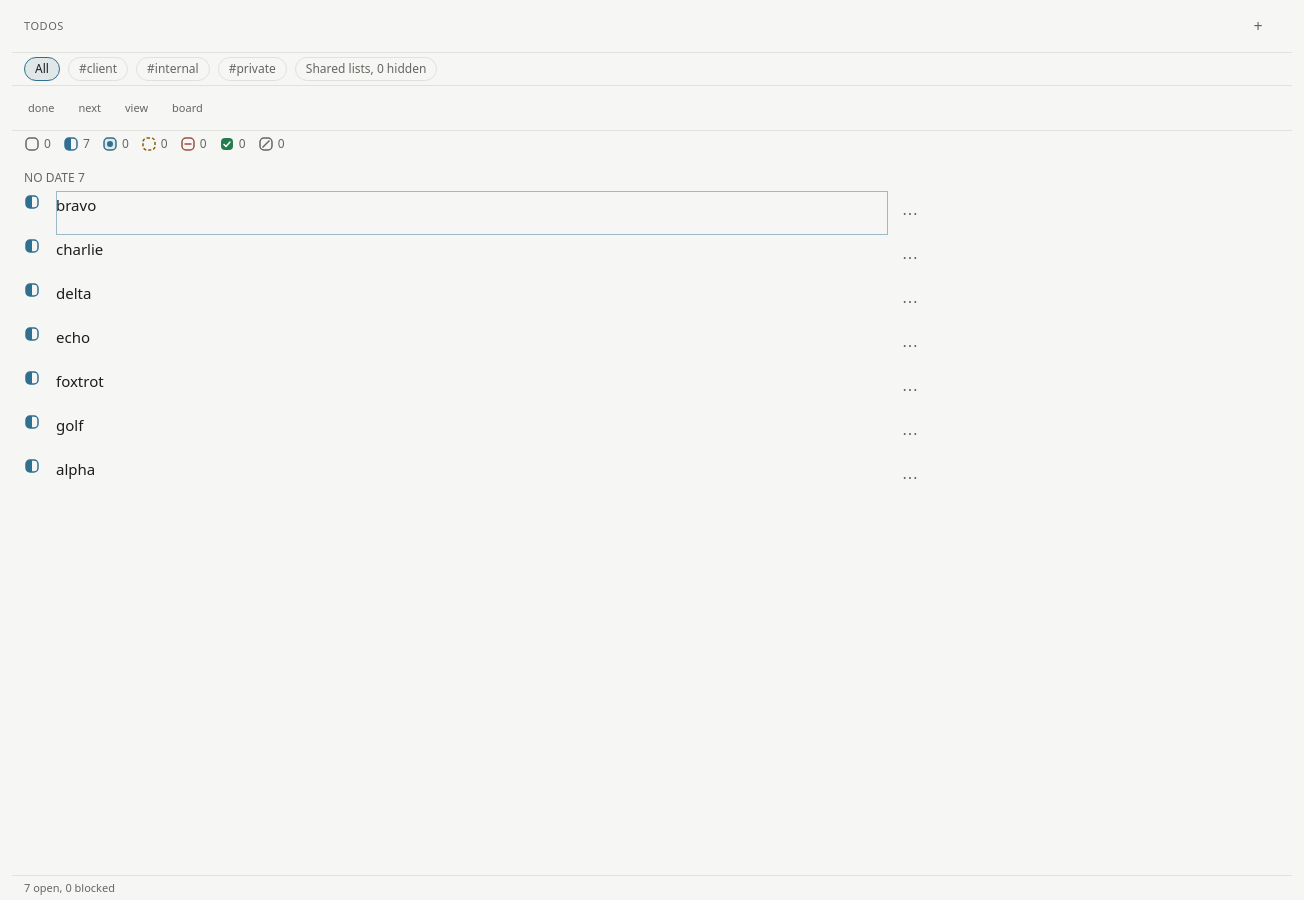
Test case: the todo pane holds the order it is drawn in while a press is made › #947 B4 an edit with i during a held order leaves the row where it was
The image size is (1304, 900).
Press x in the element "todos"
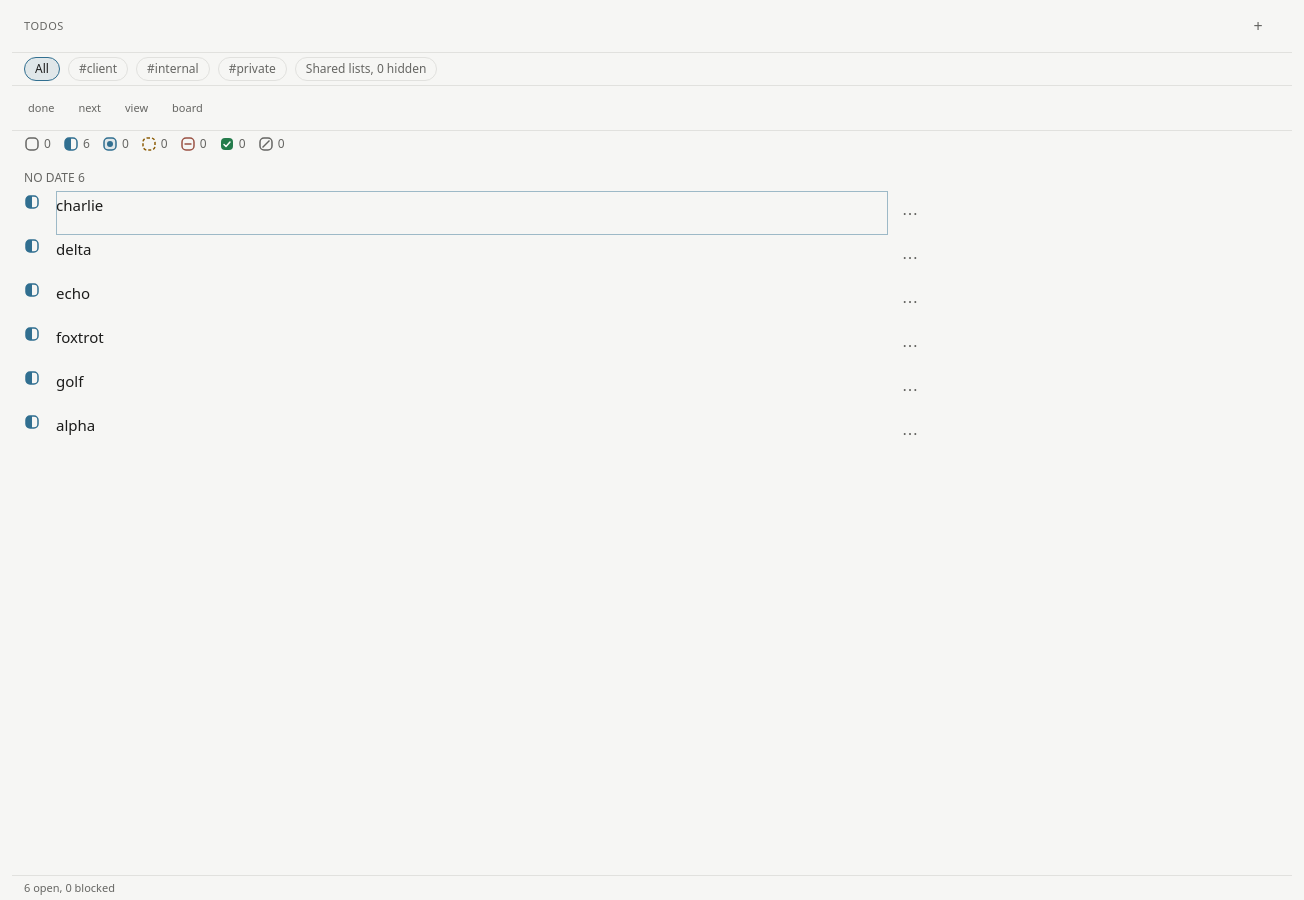
Press j in the element "todos"
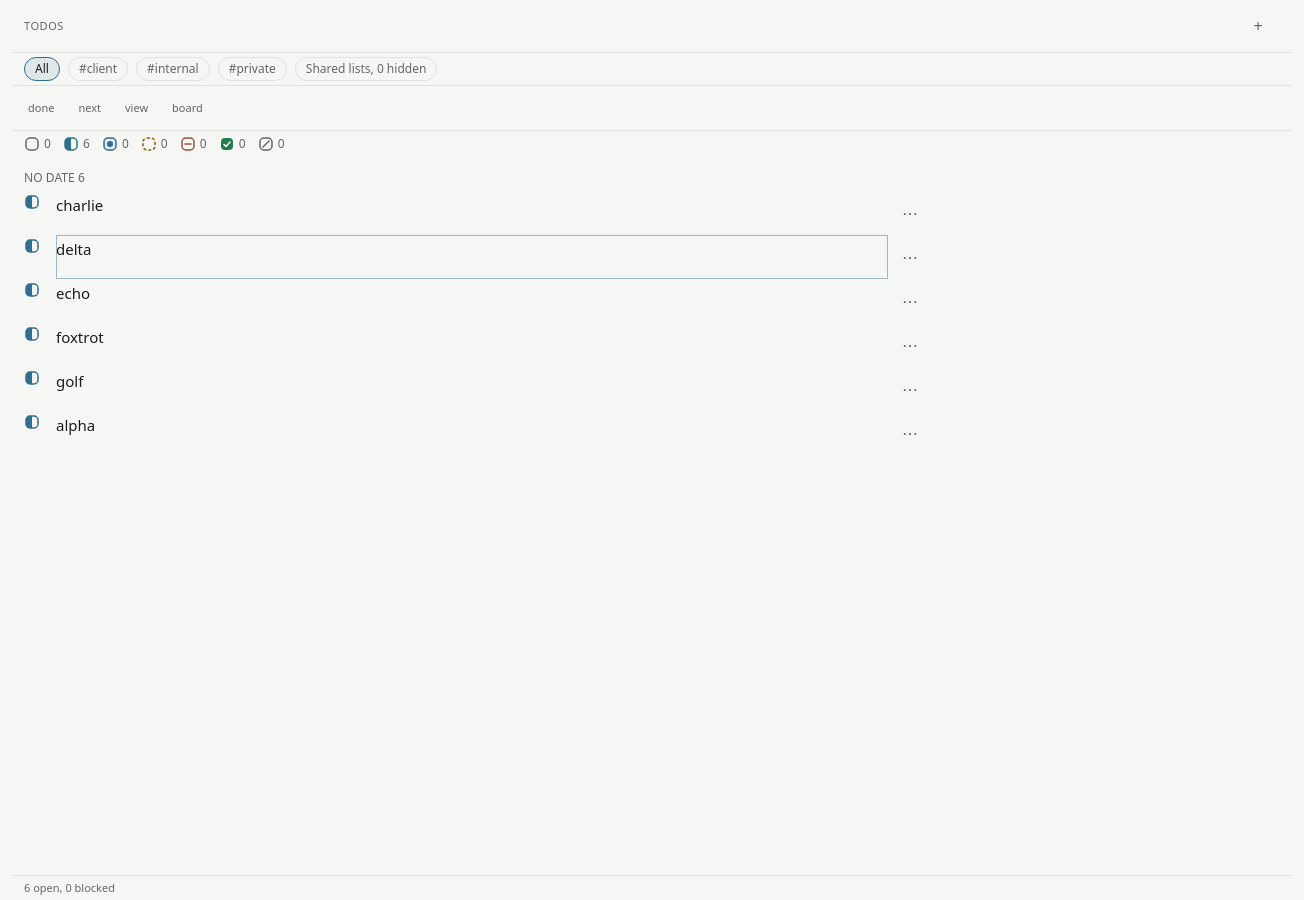
Press i in the element "todos"
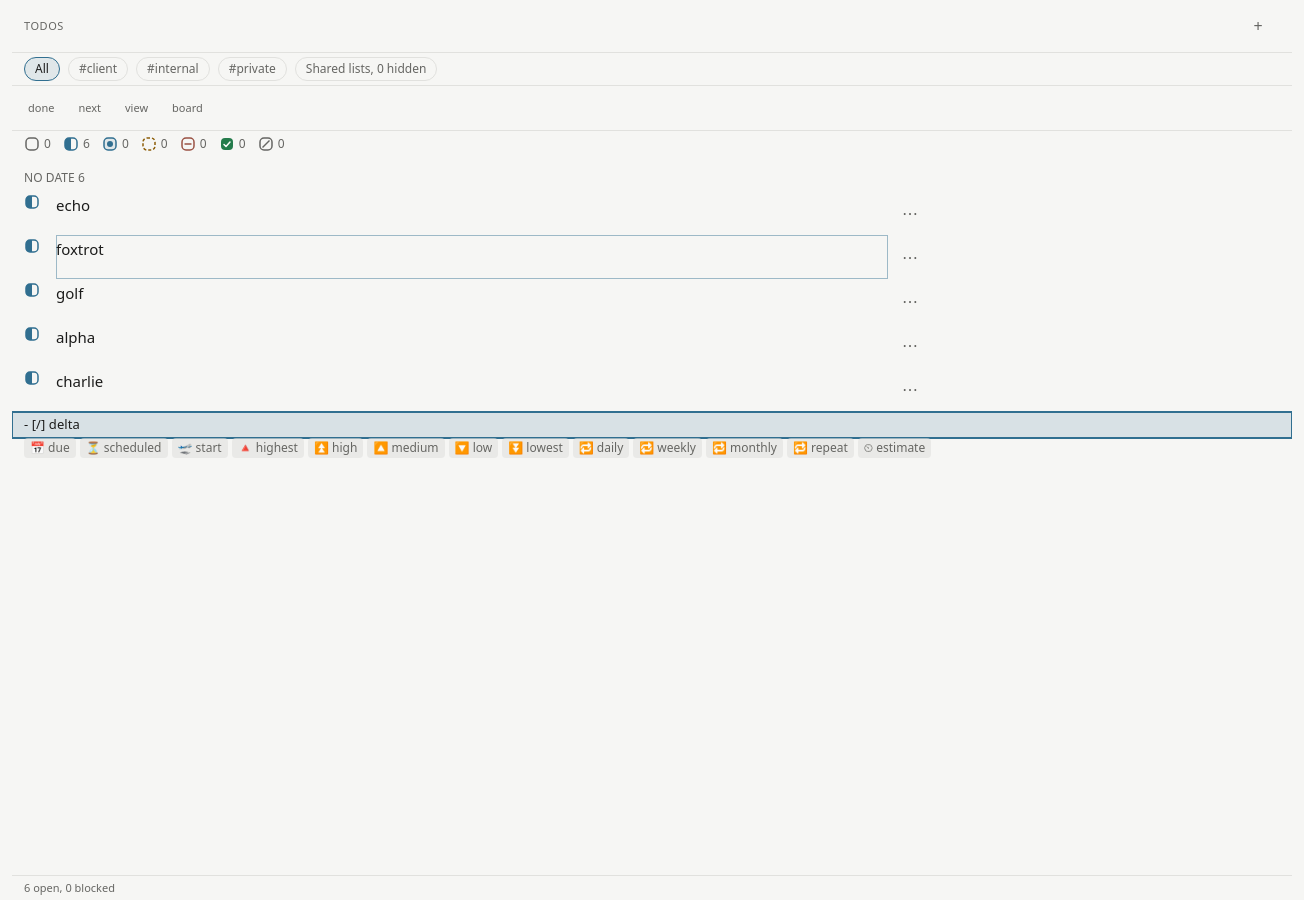
Replace the text in the field named "edit line" with "- [/] kilo ⏫" at (652, 425), box [12, 412, 1292, 438]
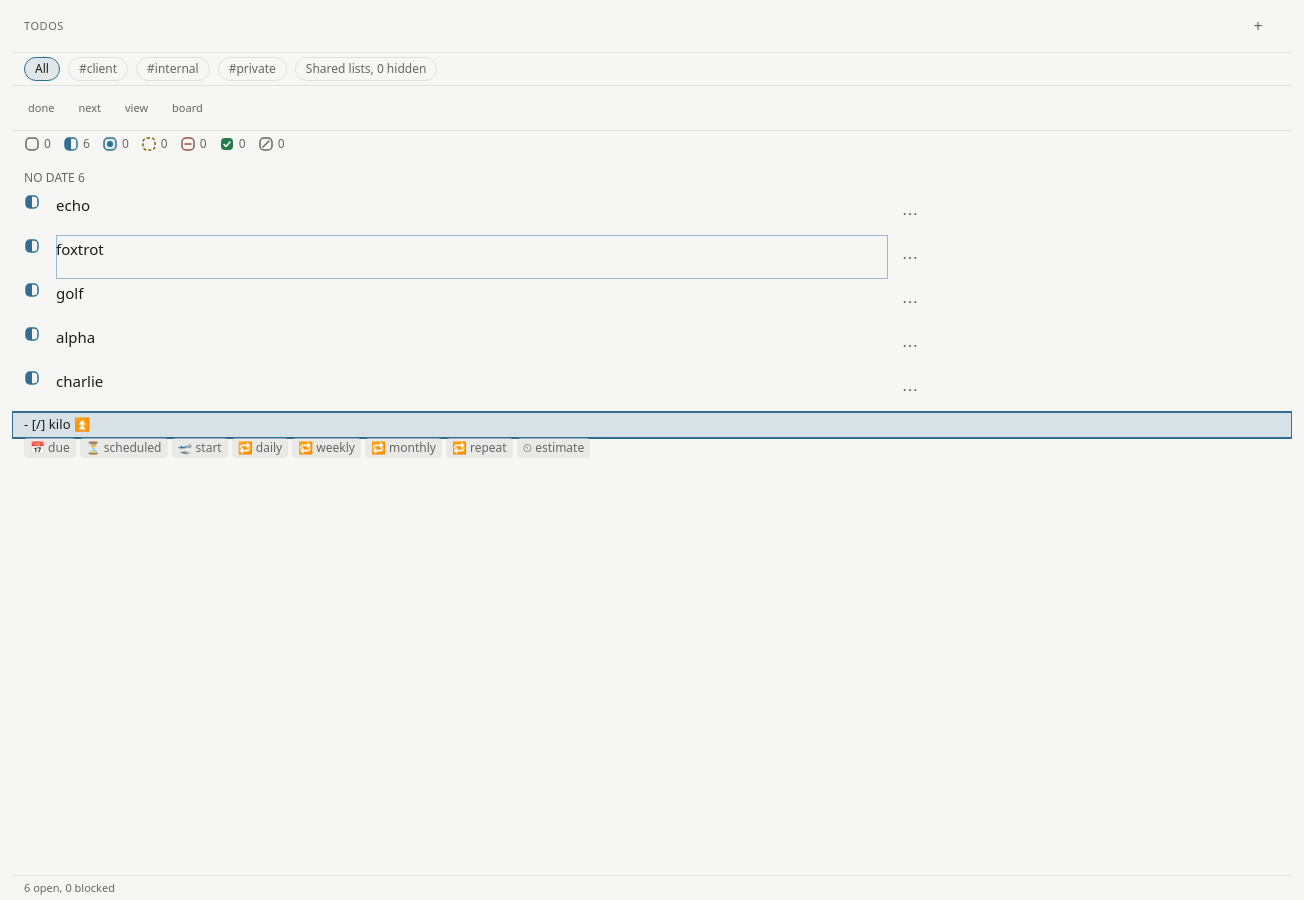
Press Enter in the field named "edit line", box [12, 412, 1292, 438]
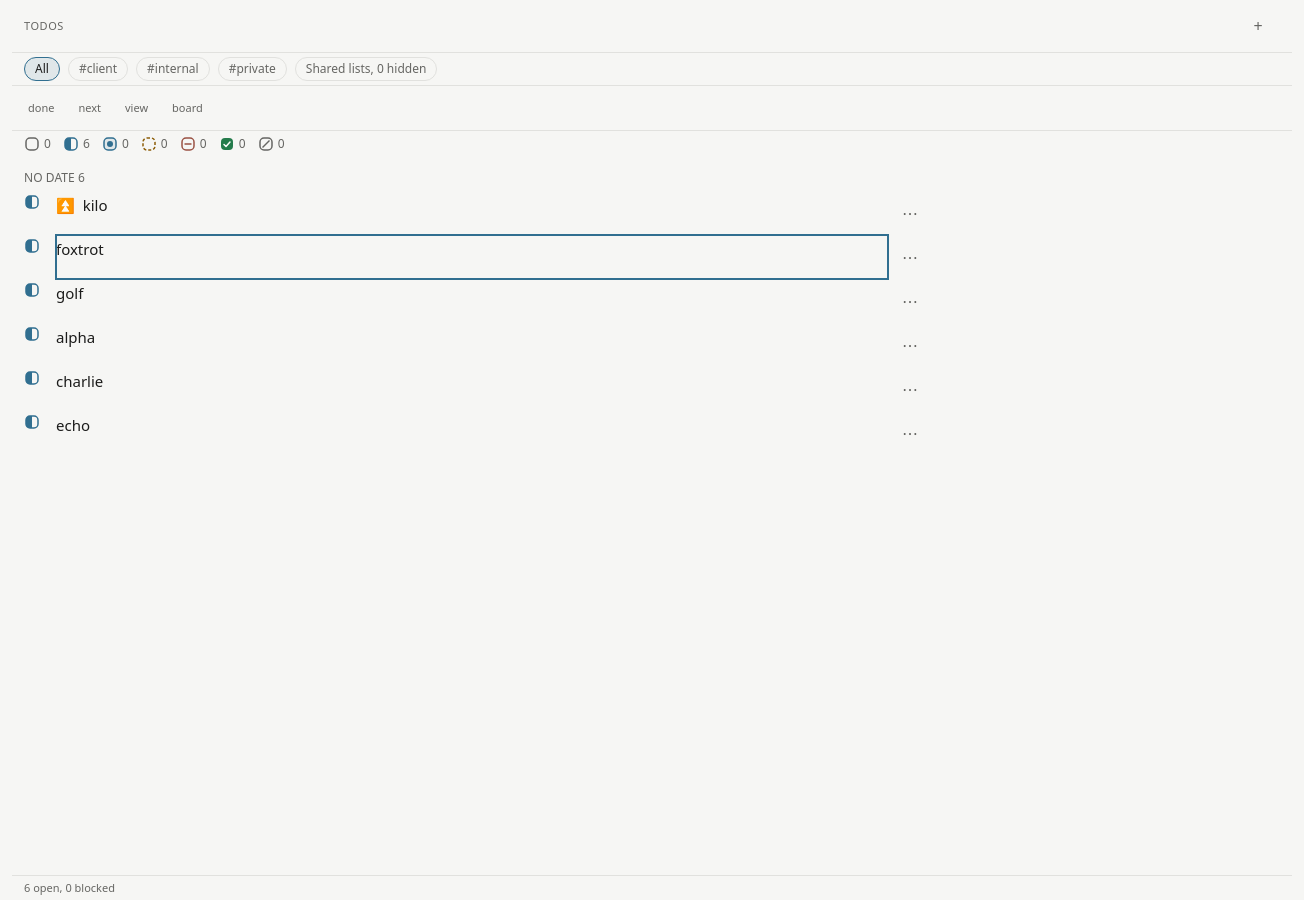
Expected: the text "kilo" is shown, [83, 195, 108, 215]
